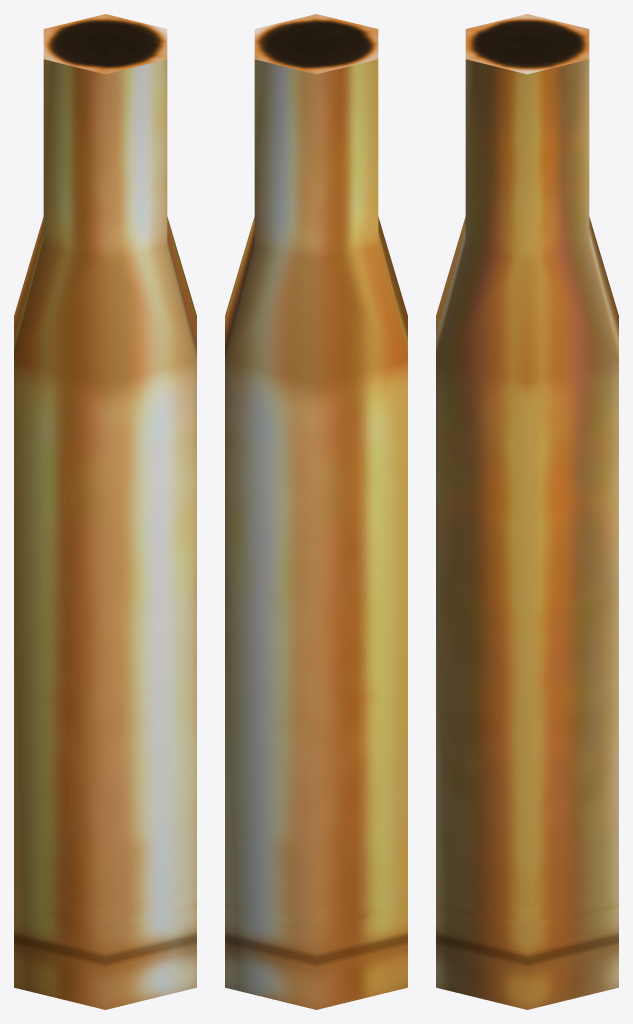
Rendered from Rifle_shell.fbx.
3 views of the same model, side by side, from view 1: azimuth 30°, elevation 25°; view 2: azimuth 150°, elevation 25°; view 3: azimuth 270°, elevation 25° (orthographic).
Visible parts, largest first — view 1: Regroup05; view 2: Regroup05; view 3: Regroup05.
Part boxes in pixels (x1,y1,x2,y2): Regroup05: (14, 14, 196, 1009); Regroup05: (225, 14, 407, 1009); Regroup05: (436, 14, 618, 1009).
Bounding box in the file's own units: 3.26 × 15.72 × 2.83.
Materials: 1 (1 with a texture image).
